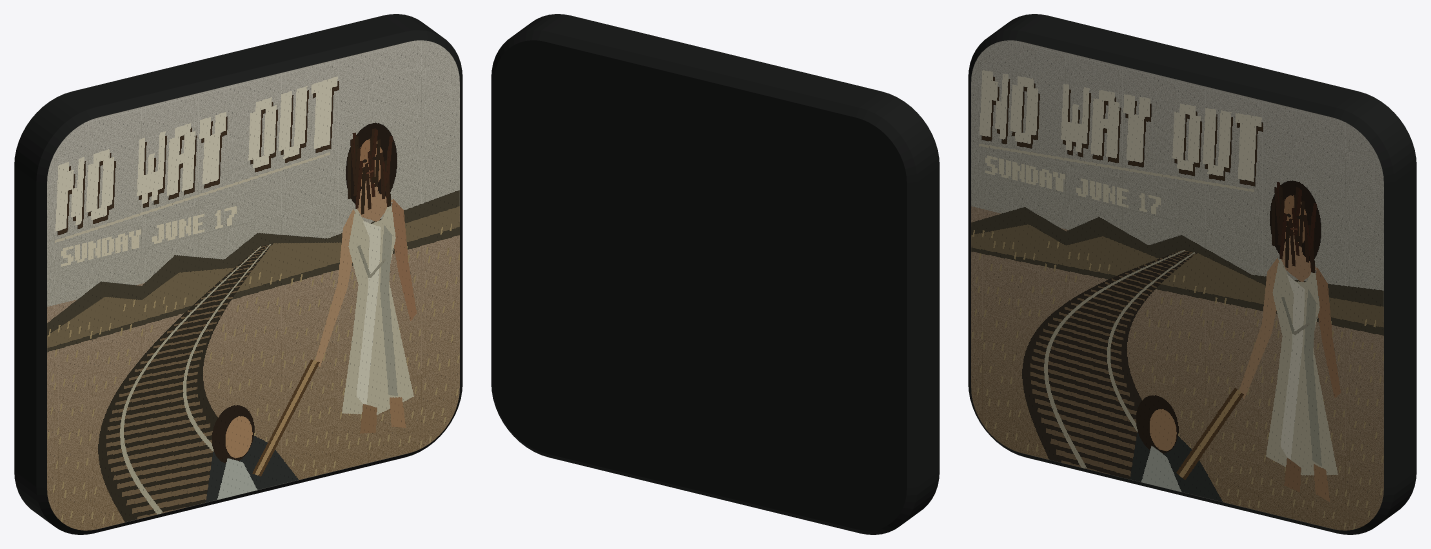
File: link_seat_fold.obj
The picture shows the model from 3 angles, left to right: view 1: azimuth 30°, elevation 25°; view 2: azimuth 150°, elevation 25°; view 3: azimuth 330°, elevation 25°; orthographic projection.
Parts seen in each view (by area): view 1: seat; view 2: seat; view 3: seat.
Boxes of the visible parts, <box> form: seat: <box>14,14,462,534</box>; seat: <box>491,14,939,534</box>; seat: <box>968,14,1416,534</box>.
Size of the model in its own units: 0.5345 by 0.51 by 0.065.
2 materials, 1 textured.
